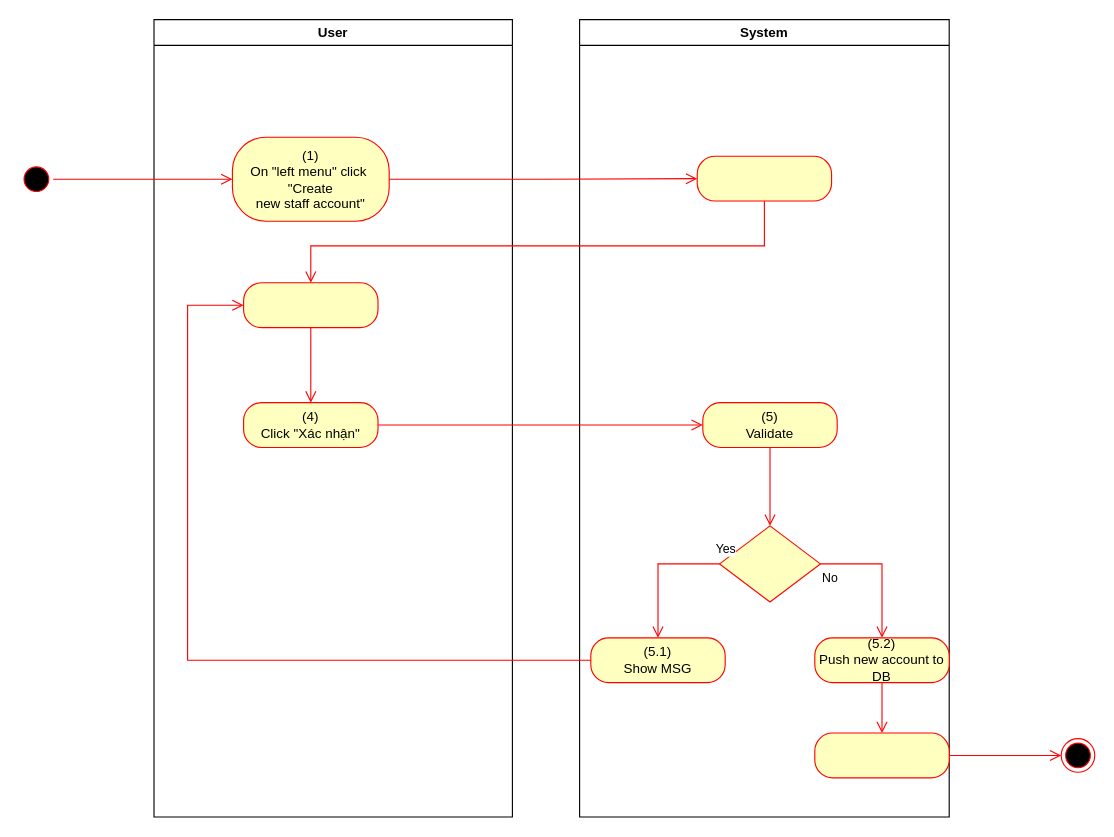
This 1114x837 diagram has some shape labels left out. Here are the shapes that lost their labels. From the top down, the centre of each, then its label:
point (764, 178): (2) Load "Form Create Staff Account"
point (310, 305): (3) Giving several input
point (881, 755): (6) Send email
